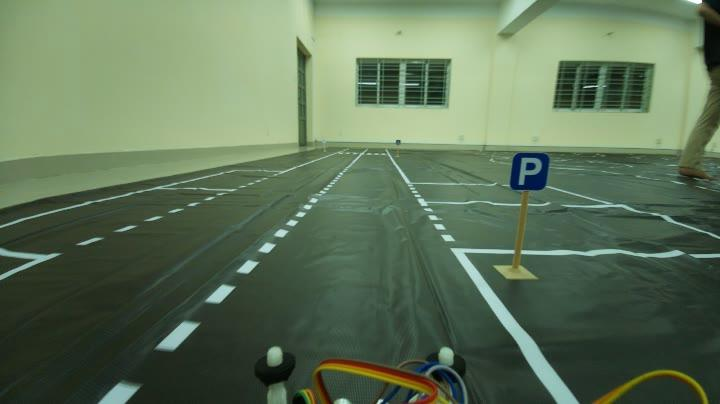parking: (506, 148, 550, 198)
